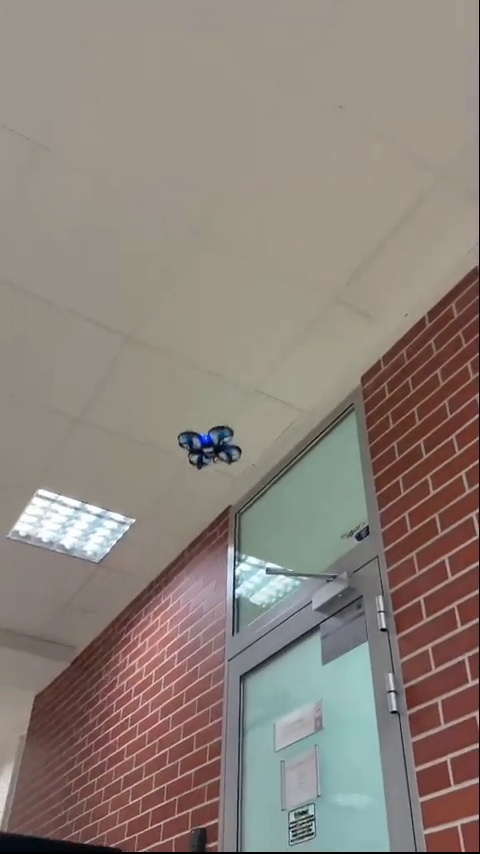drone: (179, 424, 248, 470)
